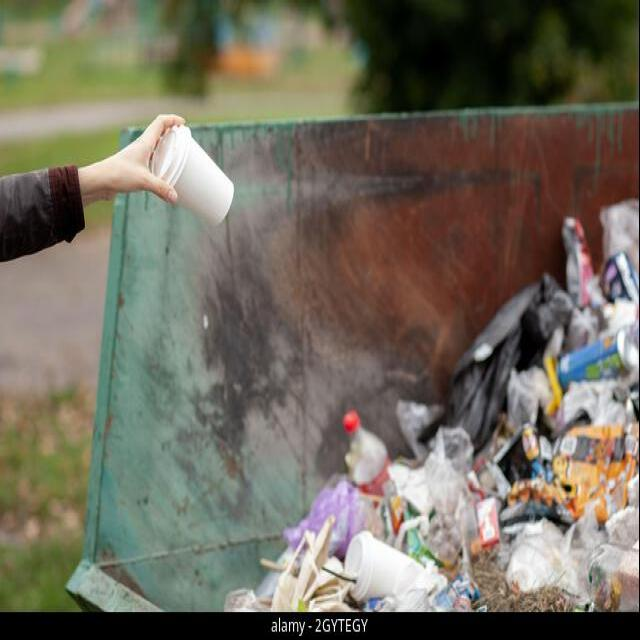plastic: (144, 130, 236, 223)
trash: (284, 240, 637, 601)
